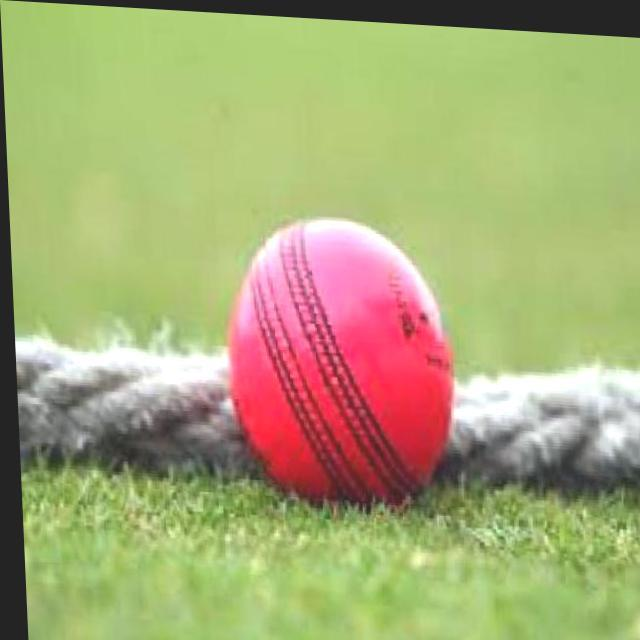-: (215, 208, 456, 488)
